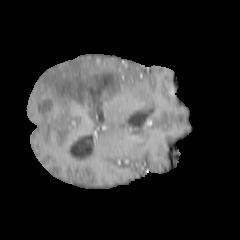glioma: (35, 60, 121, 133)
